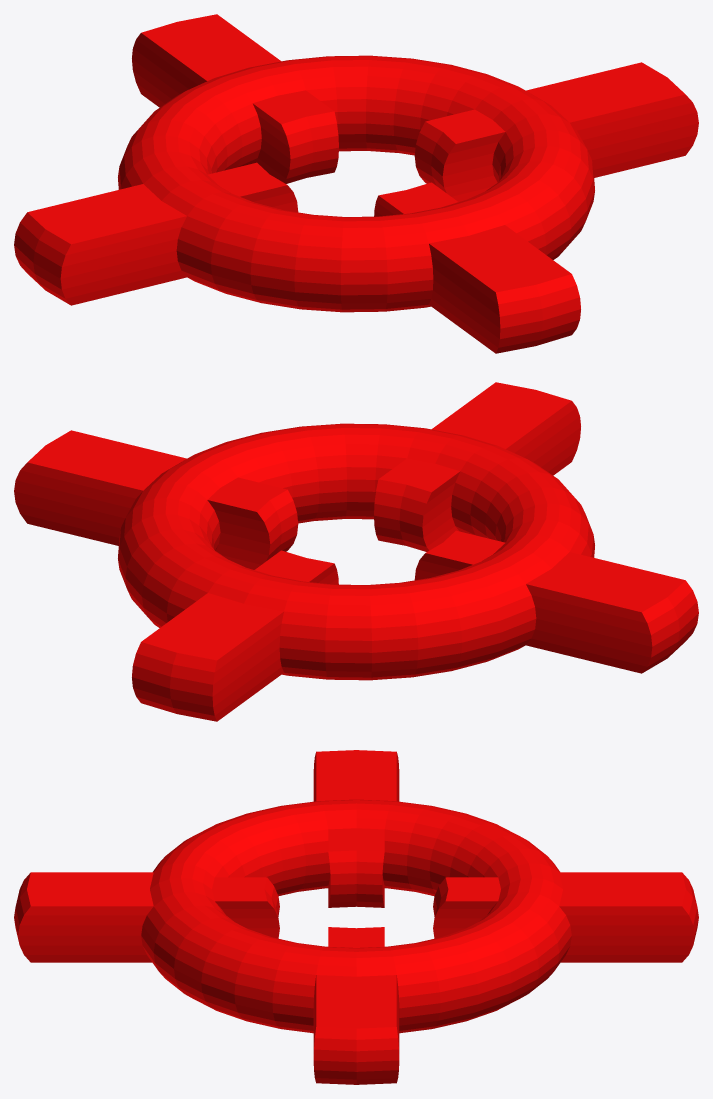
The model's file is TargetIndicator_MOD.fbx.
The picture shows the model from 3 angles, top to bottom: view 1: azimuth 30°, elevation 25°; view 2: azimuth 150°, elevation 25°; view 3: azimuth 270°, elevation 25°; orthographic projection. The views are drawn at different scales.
Visible parts, largest first — view 1: Diana; view 2: Diana; view 3: Diana.
Part boxes in pixels (left/top/right/bottom): Diana: left=14, top=14, right=698, bottom=353; Diana: left=14, top=382, right=698, bottom=721; Diana: left=14, top=750, right=698, bottom=1084.
Size of the model in its own units: 390 by 50 by 390.
